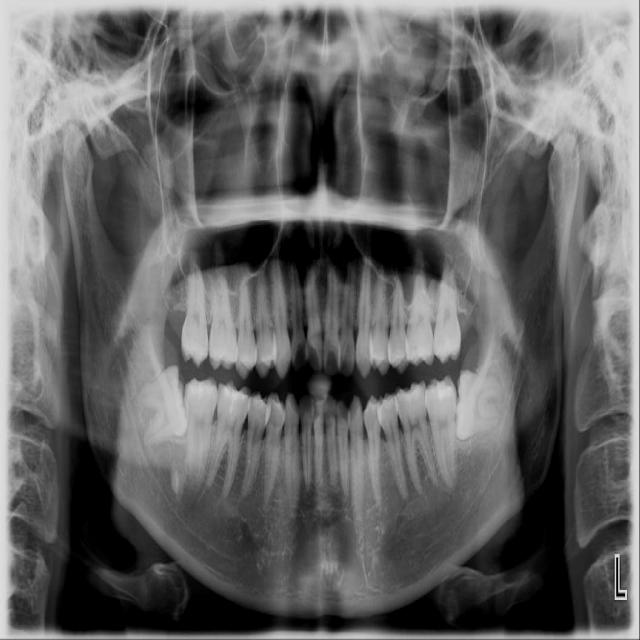Filling: (190, 385, 210, 398), (437, 385, 452, 400), (224, 386, 240, 400)
impacted tooth: (129, 365, 187, 446), (456, 370, 509, 440)
